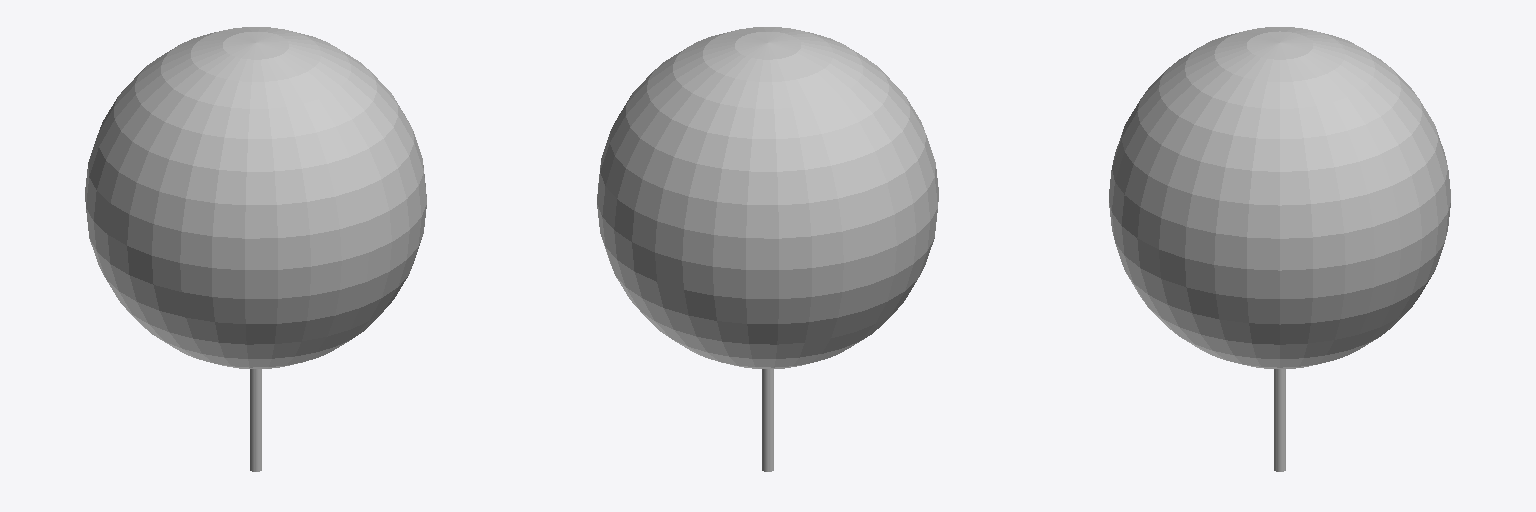
File: Decidous tree.obj
The picture shows the model from 3 angles: view 1: azimuth 30°, elevation 25°; view 2: azimuth 150°, elevation 25°; view 3: azimuth 270°, elevation 25°; orthographic projection.
Parts seen in each view (by area): view 1: Tree; view 2: Tree; view 3: Tree.
Boxes of the visible parts, box(x1,y1,x2,y2) form: Tree: box(85, 27, 426, 471); Tree: box(597, 27, 938, 471); Tree: box(1109, 27, 1450, 471).
Bounding box in the file's own units: 8 × 10.98 × 8.